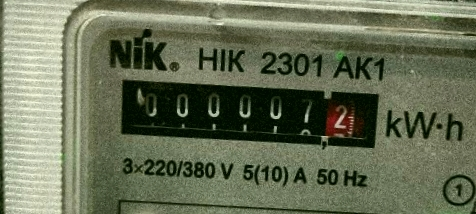0: (140, 89, 160, 117), (172, 89, 191, 118), (203, 89, 222, 118), (235, 90, 254, 119), (266, 92, 284, 121)
2: (331, 103, 349, 130)
7: (297, 94, 315, 125)
screen: (105, 65, 391, 160)
